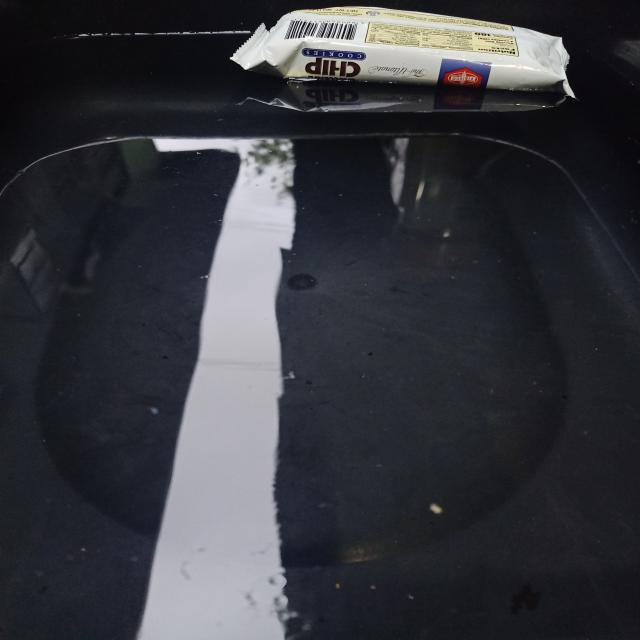Plastic Wrapper: (231, 3, 601, 122)
